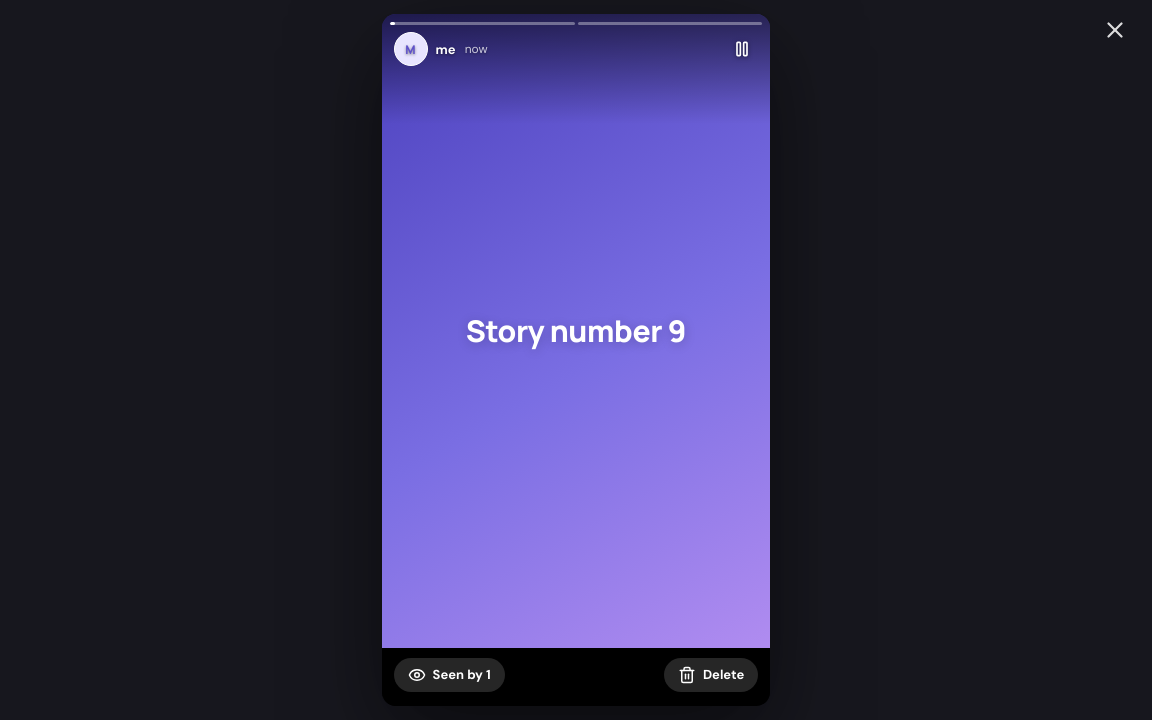
Test: StoryViewer › shows viewers and delete on your own story, without marking it seen
Click the button "Seen by 1" at (449, 675), box [394,658,505,692]
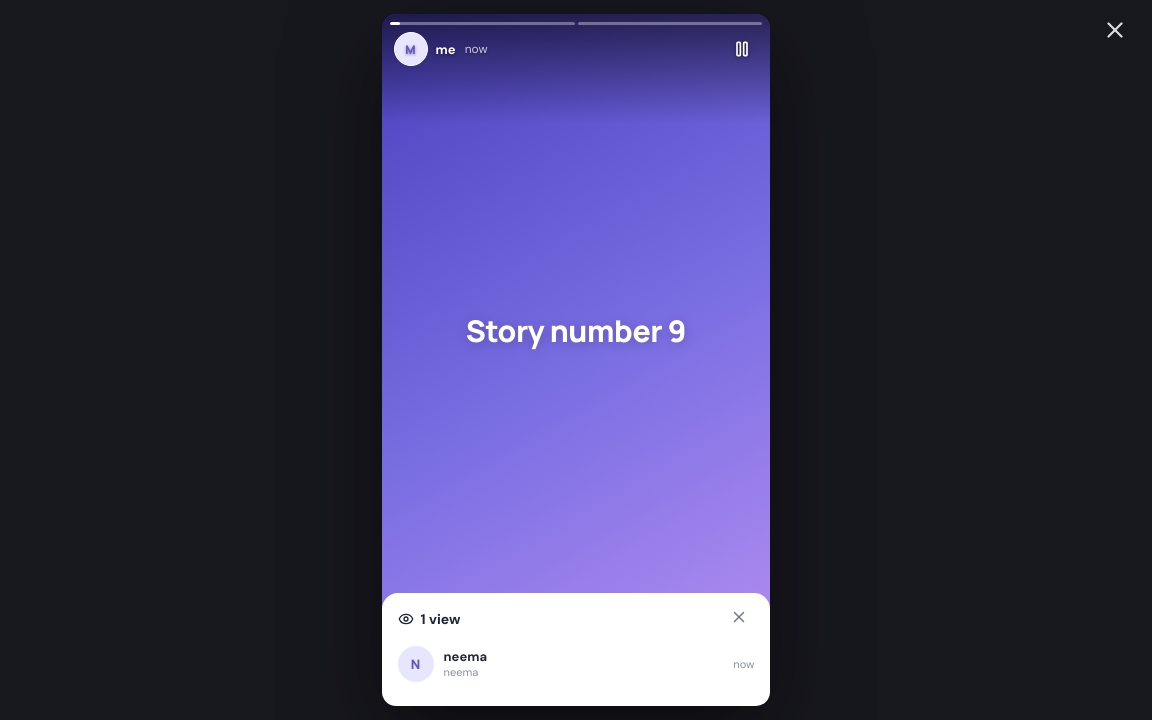
Expected: the 1st text "neema" is shown, [444,648,487,665]
Click the button named "Close viewers" at (739, 619), box [724,607,754,632]
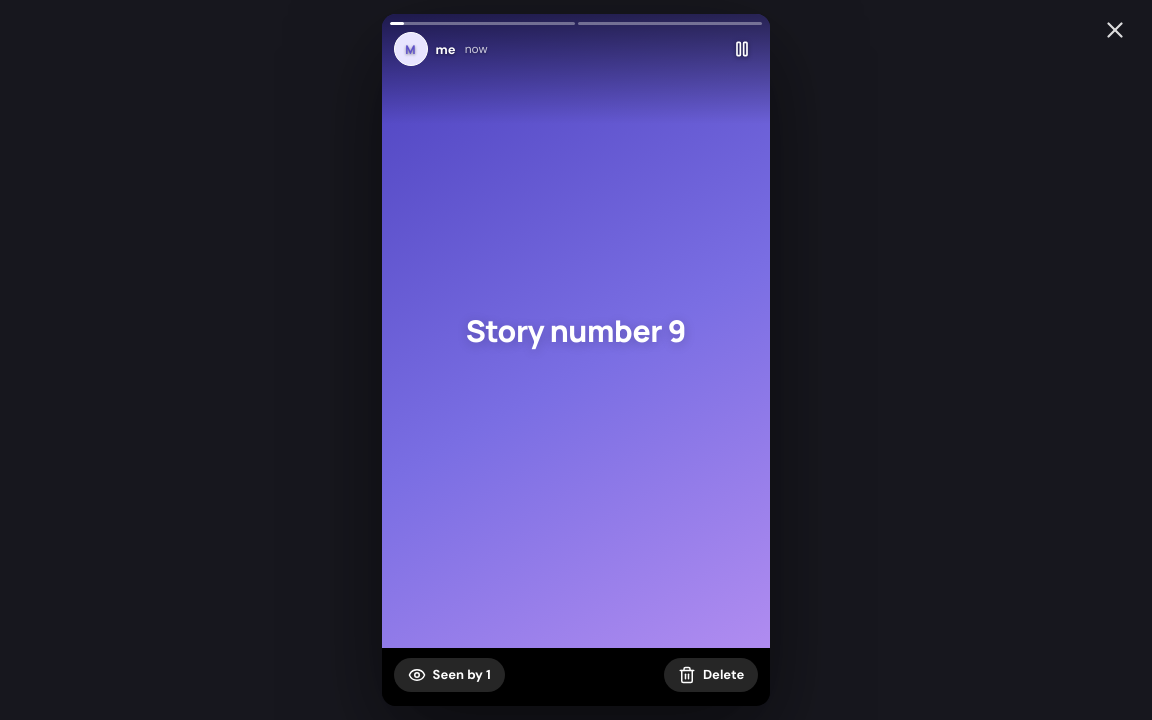
Click the button with aria-label "Delete story" at (711, 675), box [664,658,758,692]
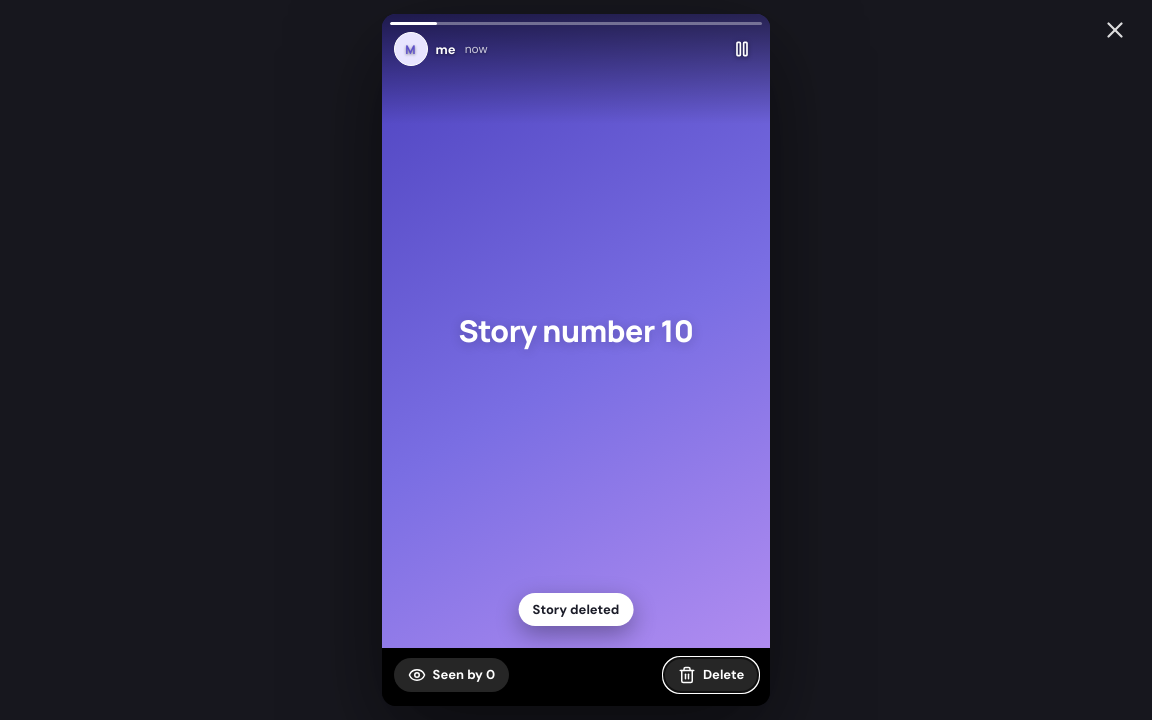
Expected: the text "Story number 10" is shown, [458,311,694,351]
